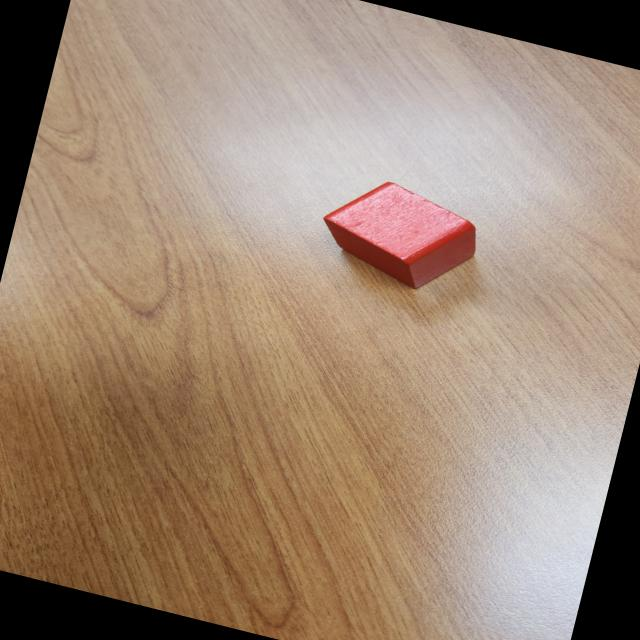red: (309, 168, 486, 302)
